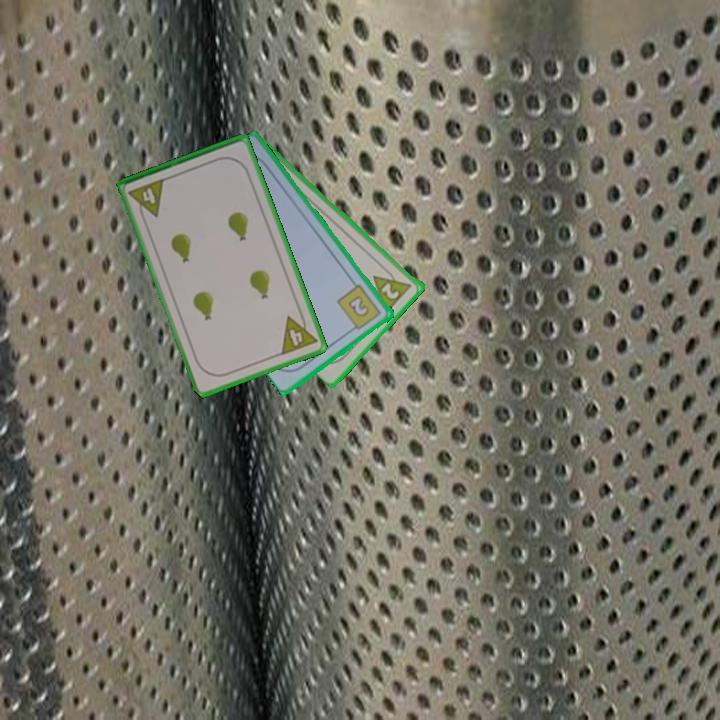2b: (334, 281, 384, 335)
2p: (370, 262, 415, 315)
4p: (277, 308, 320, 358), (125, 175, 168, 223)
